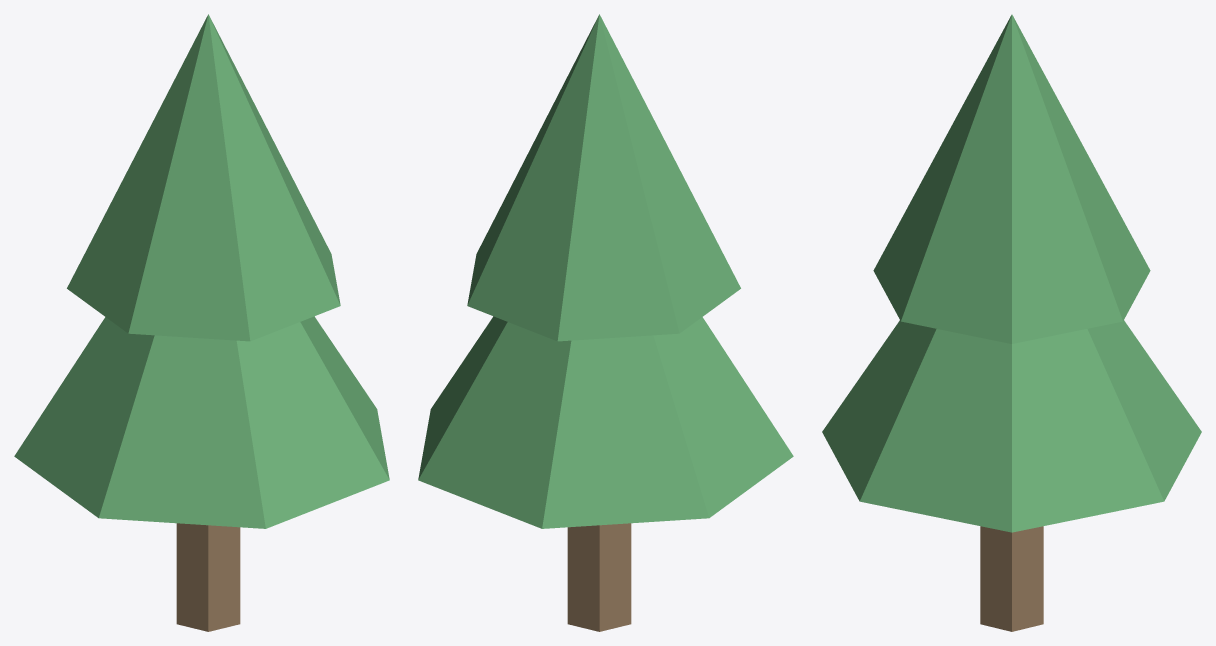
The model's file is tree.glb.
3 views of the same model, side by side, from view 1: azimuth 30°, elevation 25°; view 2: azimuth 150°, elevation 25°; view 3: azimuth 270°, elevation 25° (orthographic).
Parts seen in each view (by area): view 1: Tree; view 2: Tree; view 3: Tree.
Boxes of the visible parts, box(x1,y1,x2,y2) form: Tree: box(14, 14, 389, 631); Tree: box(418, 14, 793, 631); Tree: box(822, 14, 1201, 631).
Bounding box in the file's own units: 1.62 × 2.9 × 1.66.
